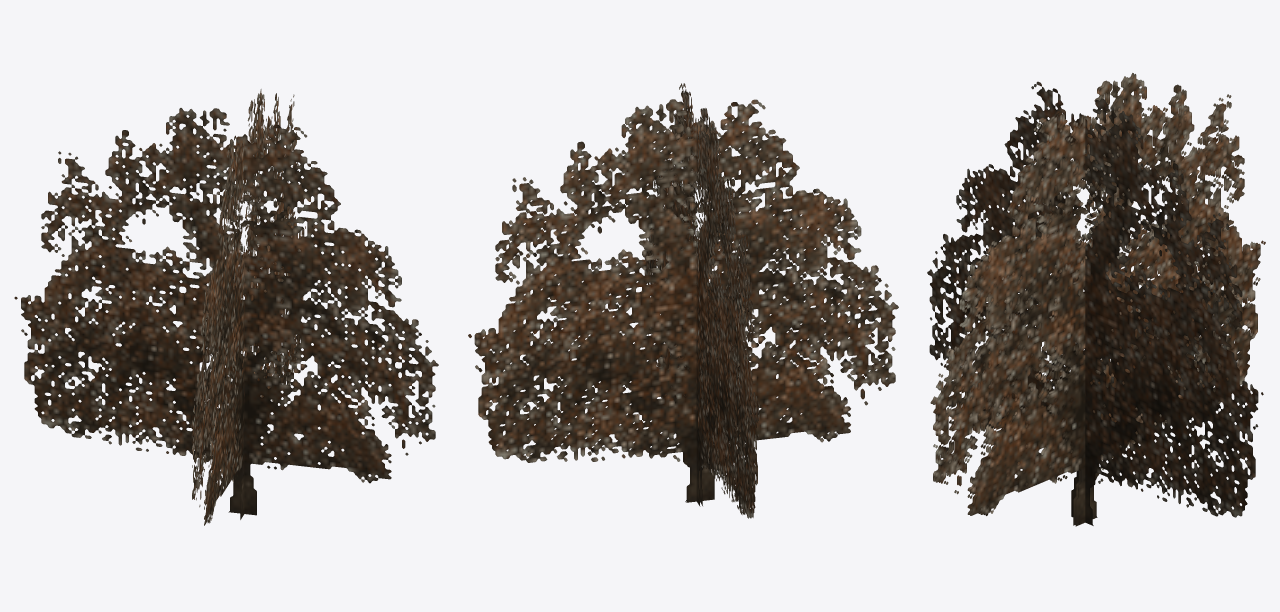
Rendered from tree030.fbx.
The picture shows the model from 3 angles, left to right: view 1: azimuth 30°, elevation 25°; view 2: azimuth 150°, elevation 25°; view 3: azimuth 270°, elevation 25°; orthographic projection. The views are drawn at different scales.
Parts seen in each view (by area): view 1: tree030; view 2: tree030; view 3: tree030.
Part boxes in pixels (x1,y1,x2,y2): tree030: (14, 89, 438, 525); tree030: (468, 83, 898, 518); tree030: (927, 73, 1265, 526).
Size of the model in its own units: 228 by 310 by 214.
Materials: 1 (1 with a texture image).
